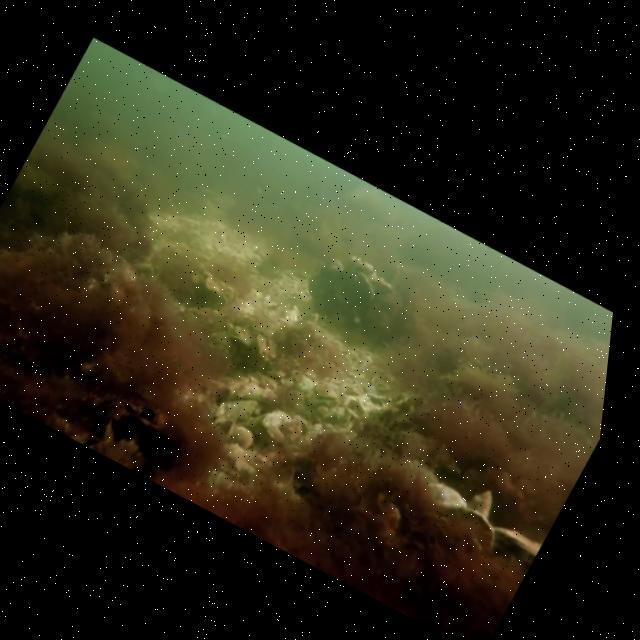Oyster-Closed: (493, 526, 539, 557)
Oyster-Indeterminate: (437, 501, 497, 552), (338, 268, 377, 309), (465, 486, 495, 522), (348, 254, 378, 275), (370, 275, 396, 295)
